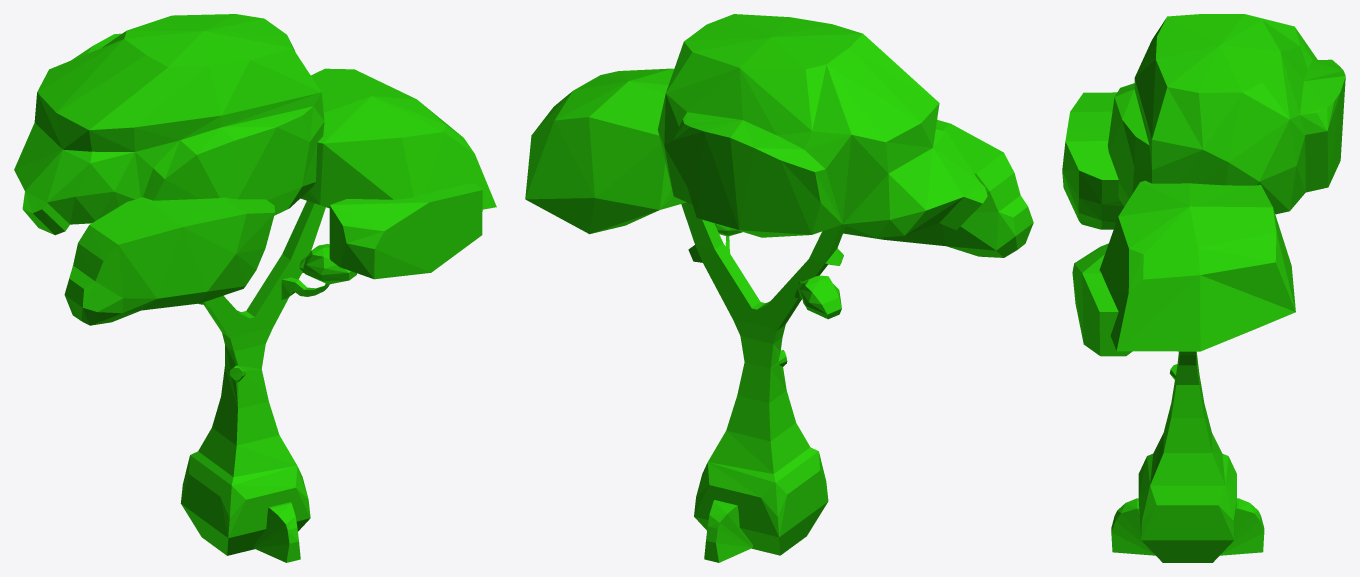
Rendered from shu7.FBX.
3 views of the same model, side by side, from view 1: azimuth 30°, elevation 25°; view 2: azimuth 150°, elevation 25°; view 3: azimuth 270°, elevation 25° (orthographic). The views are drawn at different scales.
Visible parts, largest first — view 1: FOL_Foliage_007, 对象1114; view 2: FOL_Foliage_007, 对象1114; view 3: FOL_Foliage_007, 对象1114.
Boxes of the visible parts, bbox=[...] form: FOL_Foliage_007: bbox=[14, 14, 496, 325]; 对象1114: bbox=[180, 201, 329, 562]; FOL_Foliage_007: bbox=[525, 14, 1033, 319]; 对象1114: bbox=[681, 202, 845, 562]; FOL_Foliage_007: bbox=[1062, 14, 1345, 356]; 对象1114: bbox=[1111, 351, 1264, 562].
Bounding box in the file's own units: 1343 × 1485 × 778.
